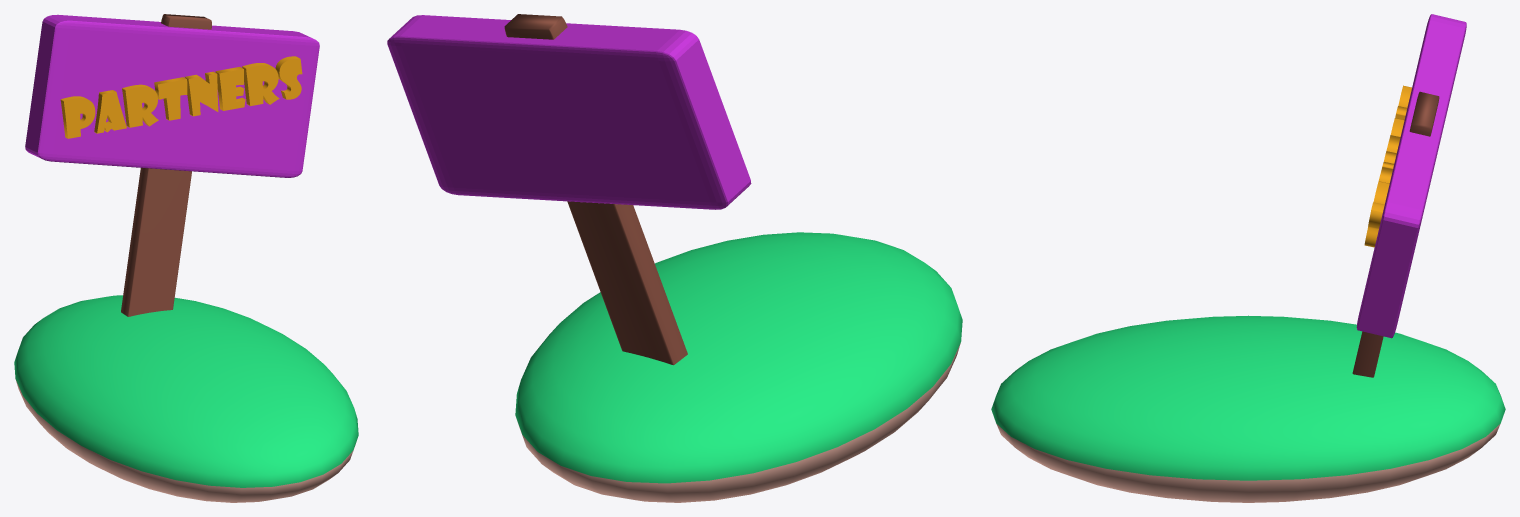
File: WEB3_MENU_P.gltf
3 views of the same model, side by side, from view 1: azimuth 30°, elevation 25°; view 2: azimuth 150°, elevation 25°; view 3: azimuth 270°, elevation 25° (orthographic). The views are drawn at different scales.
Visible parts, largest first — view 1: Sphere.003, Cube.011, Text.006, Cube.010; view 2: Sphere.003, Cube.011, Cube.010; view 3: Sphere.003, Cube.011, Cube.010, Text.006.
Part boxes in pixels (box(x1,y1,x2,y2)): Sphere.003: box(14, 295, 358, 502); Cube.011: box(25, 14, 319, 177); Text.006: box(60, 56, 302, 138); Cube.010: box(121, 14, 211, 316); Sphere.003: box(515, 232, 962, 502); Cube.011: box(387, 15, 751, 209); Cube.010: box(504, 14, 687, 365); Sphere.003: box(991, 315, 1505, 502); Cube.011: box(1356, 14, 1466, 338); Cube.010: box(1352, 91, 1439, 377); Text.006: box(1364, 85, 1411, 247).
Size of the model in its own units: 1.22 by 1.38 by 1.49.
